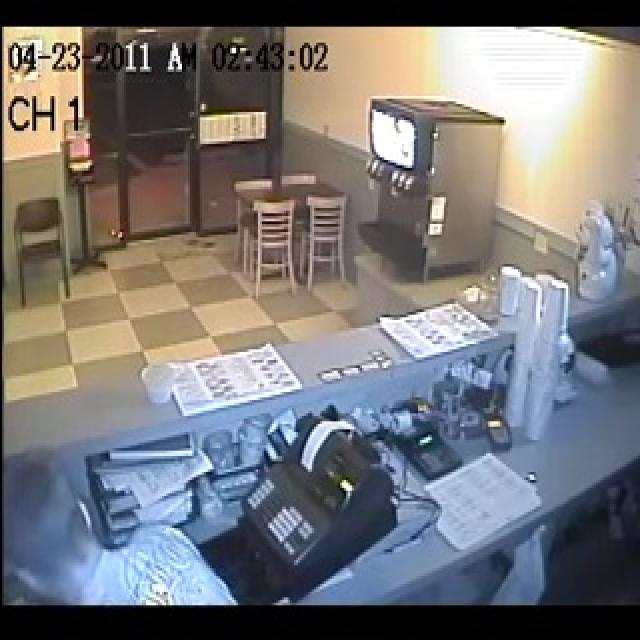thief: (13, 442, 241, 602)
